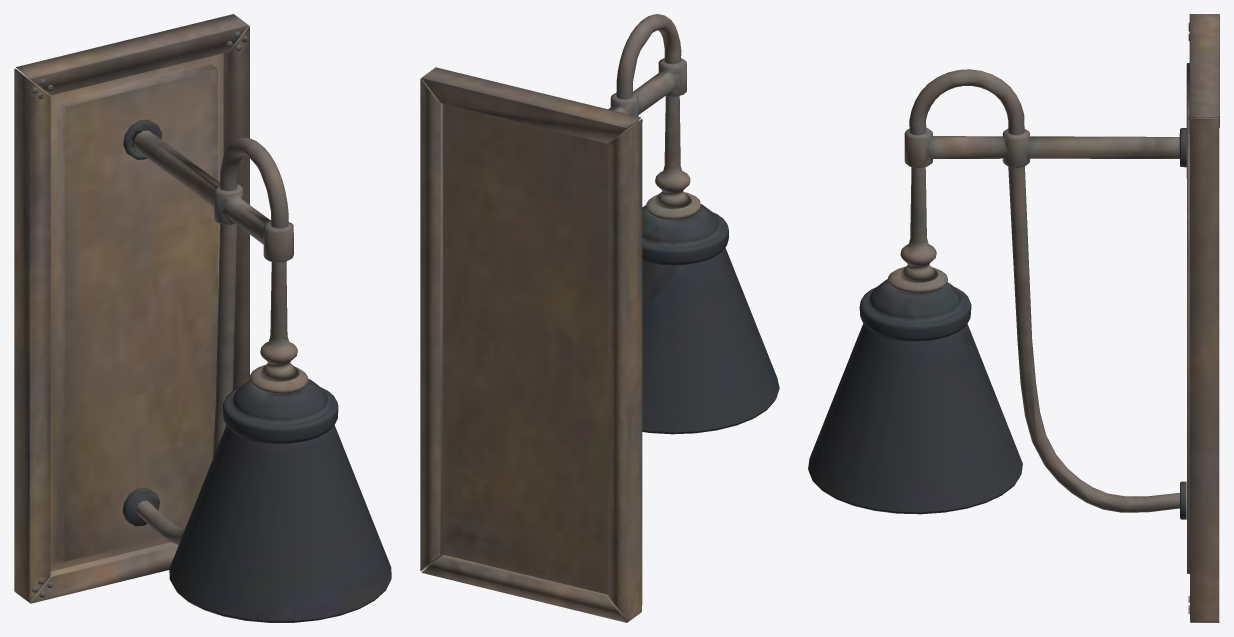
The model's file is lamp-wall-sconce.lite.314e51ca.glb.
3 renders of one model, left to right at view 1: azimuth 30°, elevation 25°; view 2: azimuth 150°, elevation 25°; view 3: azimuth 270°, elevation 25°, orthographic. The views are drawn at different scales.
Parts seen in each view (by area): view 1: model; view 2: model; view 3: model.
Part boxes in pixels (x1=…): model: x1=14, y1=14, x2=391, y2=622; model: x1=420, y1=14, x2=779, y2=622; model: x1=808, y1=14, x2=1219, y2=622.
Size of the model in its own units: 0.1502 by 0.3413 by 0.2516.
Materials: 2 (2 with a texture image).
